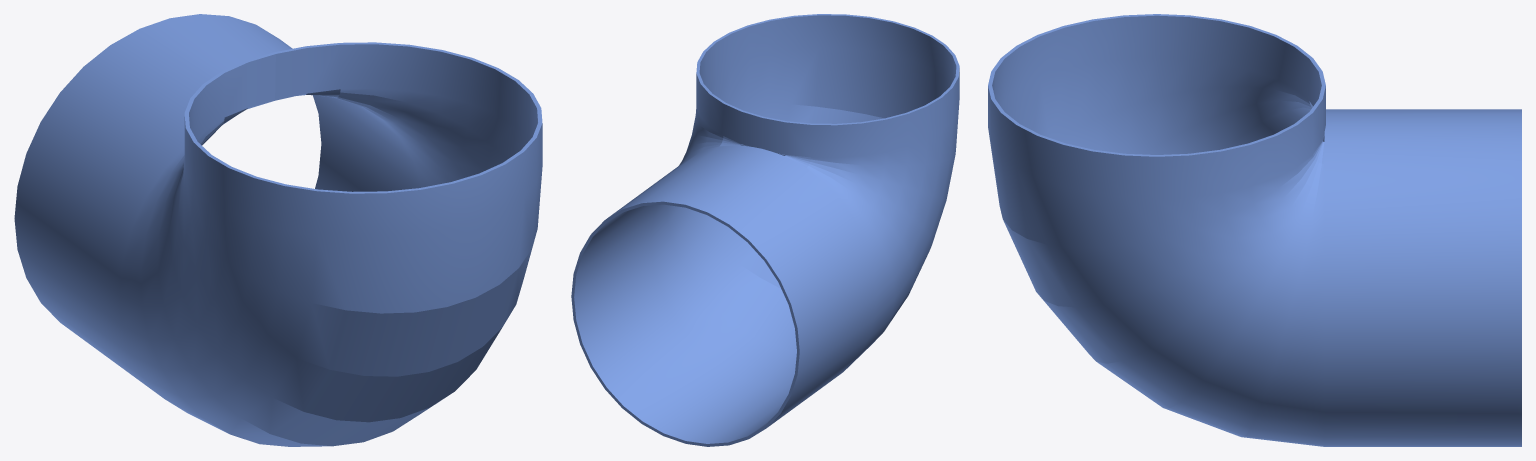
File: altkıvrım.fbx
The picture shows the model from 3 angles, left to right: view 1: azimuth 30°, elevation 25°; view 2: azimuth 150°, elevation 25°; view 3: azimuth 270°, elevation 25°; orthographic projection. The views are drawn at different scales.
Parts seen in each view (by area): view 1: Cylinder.001; view 2: Cylinder.001; view 3: Cylinder.001.
Boxes of the visible parts, bbox=[...] form: Cylinder.001: bbox=[14, 14, 542, 446]; Cylinder.001: bbox=[571, 14, 959, 446]; Cylinder.001: bbox=[988, 14, 1521, 446].
Bounding box in the file's own units: 166 × 187 × 262.
